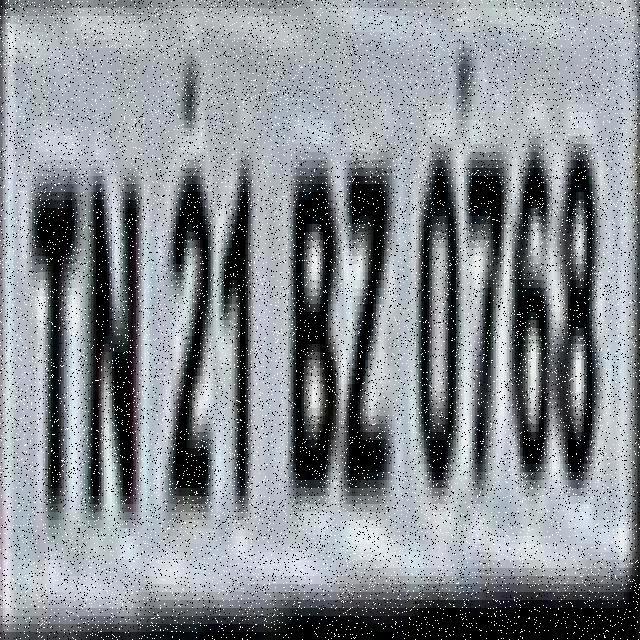licenseplate: (9, 13, 639, 633)
